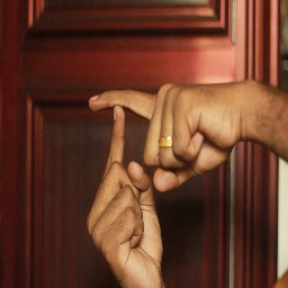T: (71, 77, 171, 201)
